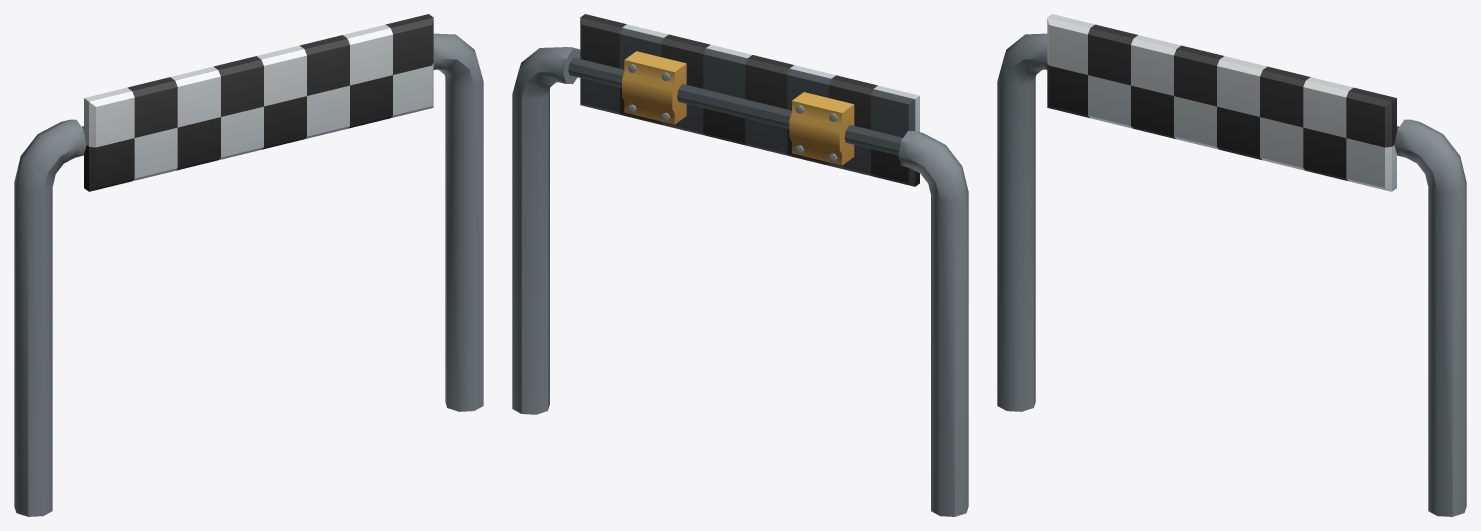
The model's file is signage-finish.glb.
The picture shows the model from 3 angles, left to right: view 1: azimuth 30°, elevation 25°; view 2: azimuth 150°, elevation 25°; view 3: azimuth 330°, elevation 25°; orthographic projection. The views are drawn at different scales.
Visible parts, largest first — view 1: signage_finish_board, signage_finish; view 2: signage_finish, signage_finish_board; view 3: signage_finish_board, signage_finish.
Boxes of the visible parts, x1=… form: signage_finish_board: x1=84, y1=14, x2=433, y2=191; signage_finish: x1=14, y1=33, x2=483, y2=516; signage_finish: x1=512, y1=47, x2=968, y2=516; signage_finish_board: x1=580, y1=14, x2=919, y2=186; signage_finish_board: x1=1047, y1=14, x2=1396, y2=191; signage_finish: x1=997, y1=33, x2=1466, y2=516.
Size of the model in its own units: 5.4 by 4.5 by 0.5.
1 material, 1 textured.
